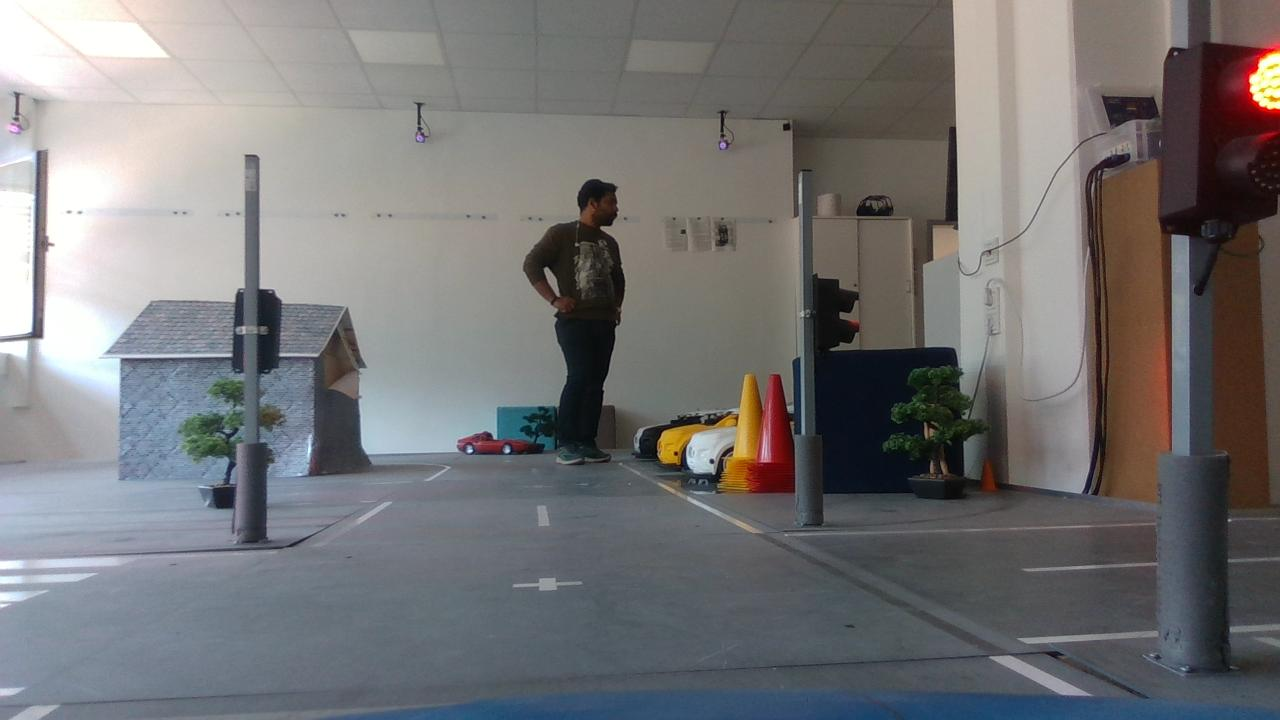traffic_light_red: (1143, 25, 1280, 256)
